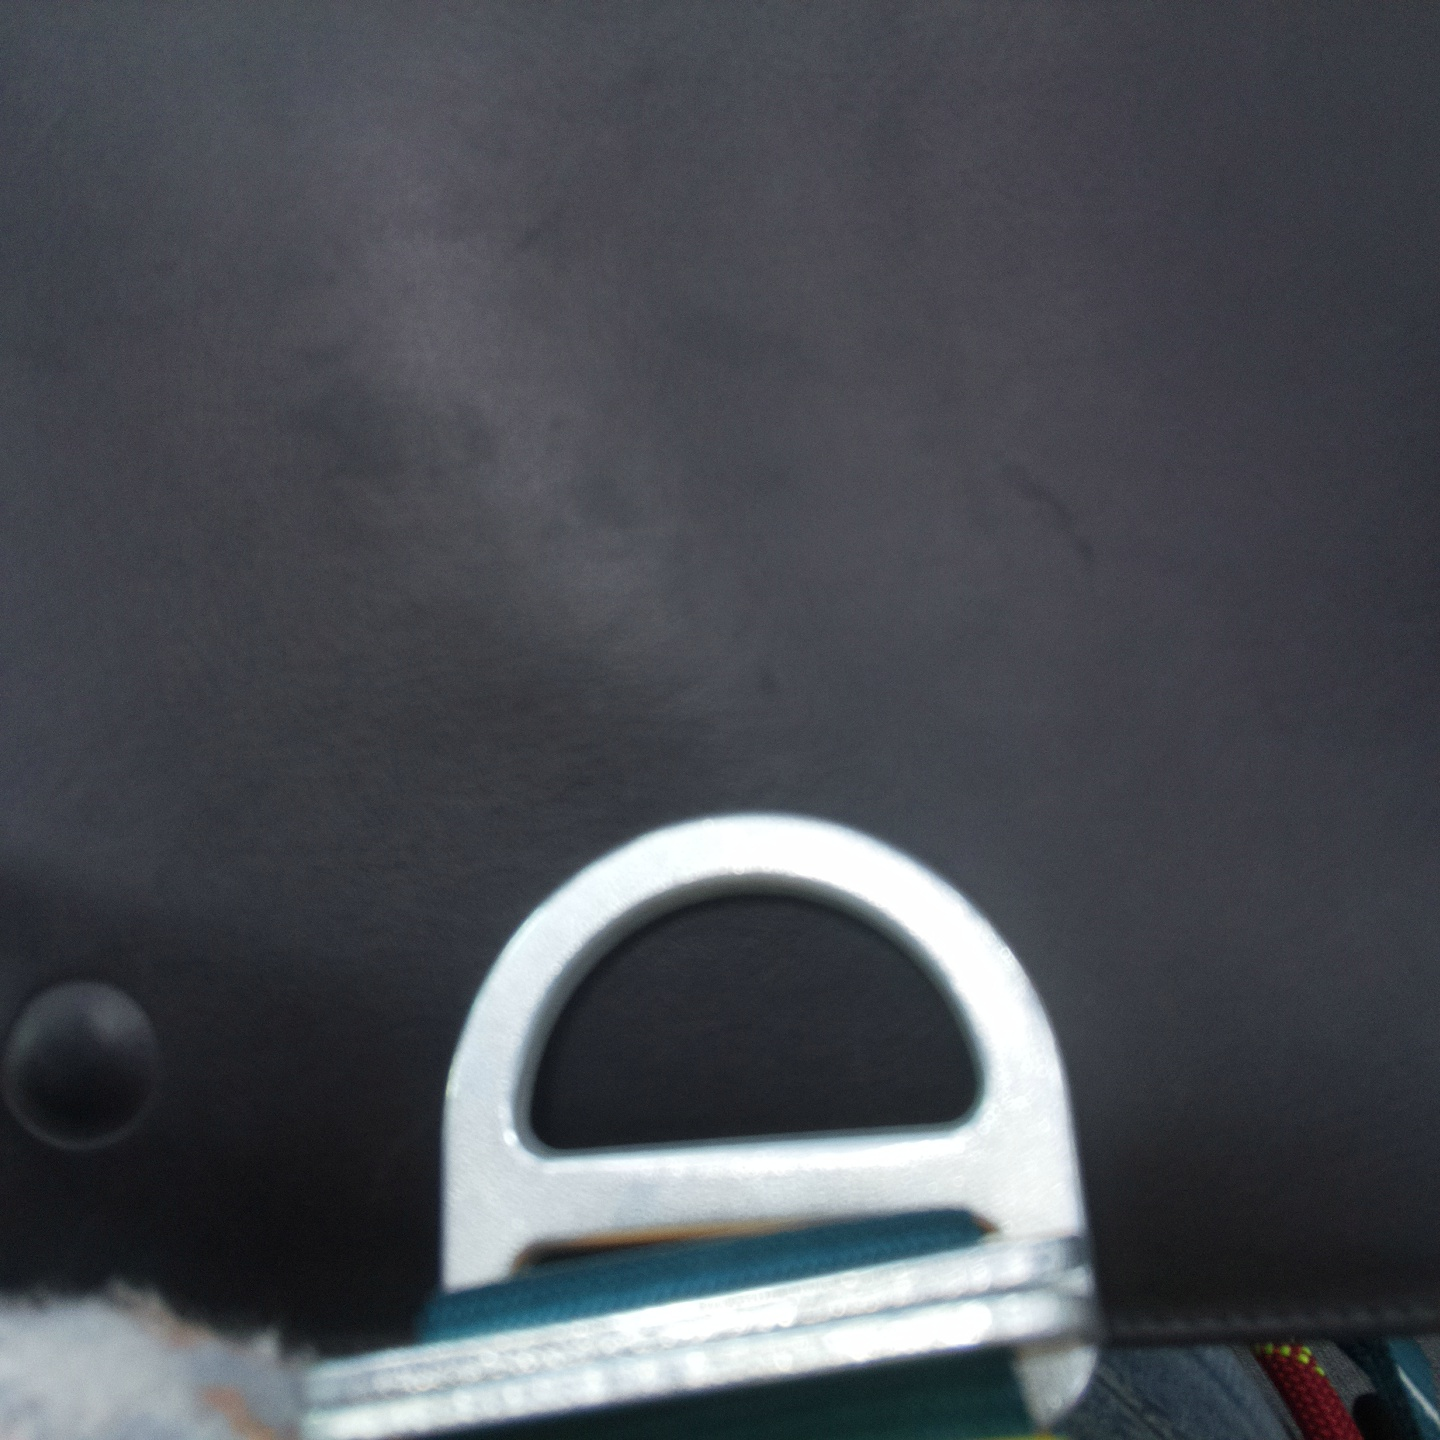UNSUCCESS: (433, 804, 1097, 1324)
